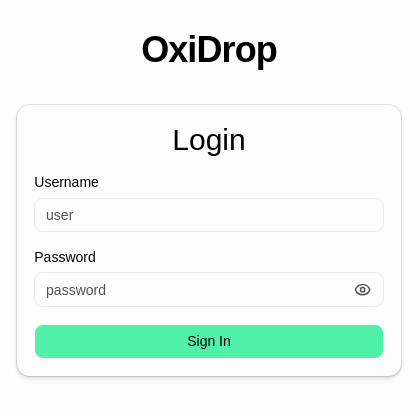
it: LoginForm › submits credentials and reports rejected login without redirecting
This screenshot has width=419, height=416.
Type "admin" into the field labelled "Username" at (209, 215), box [34,198,384,232]
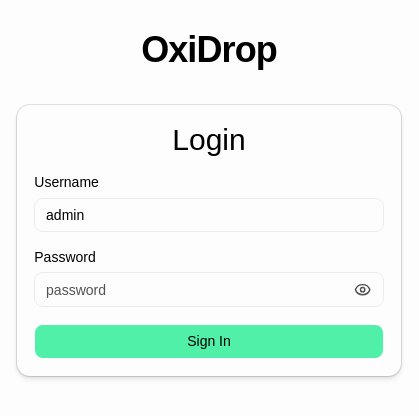
Type "wrong-password" into the password field labelled "Password" at (209, 290), box [34,272,384,307]
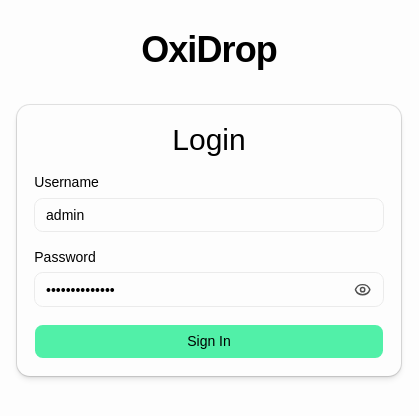
Click the button "Sign In" at (209, 341), box [34,324,384,359]
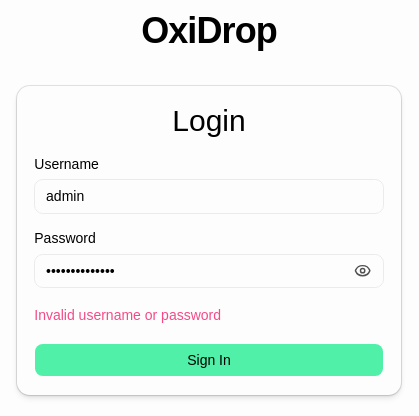
Check: the message reads "Invalid username or password", box [34,307,221,323]
